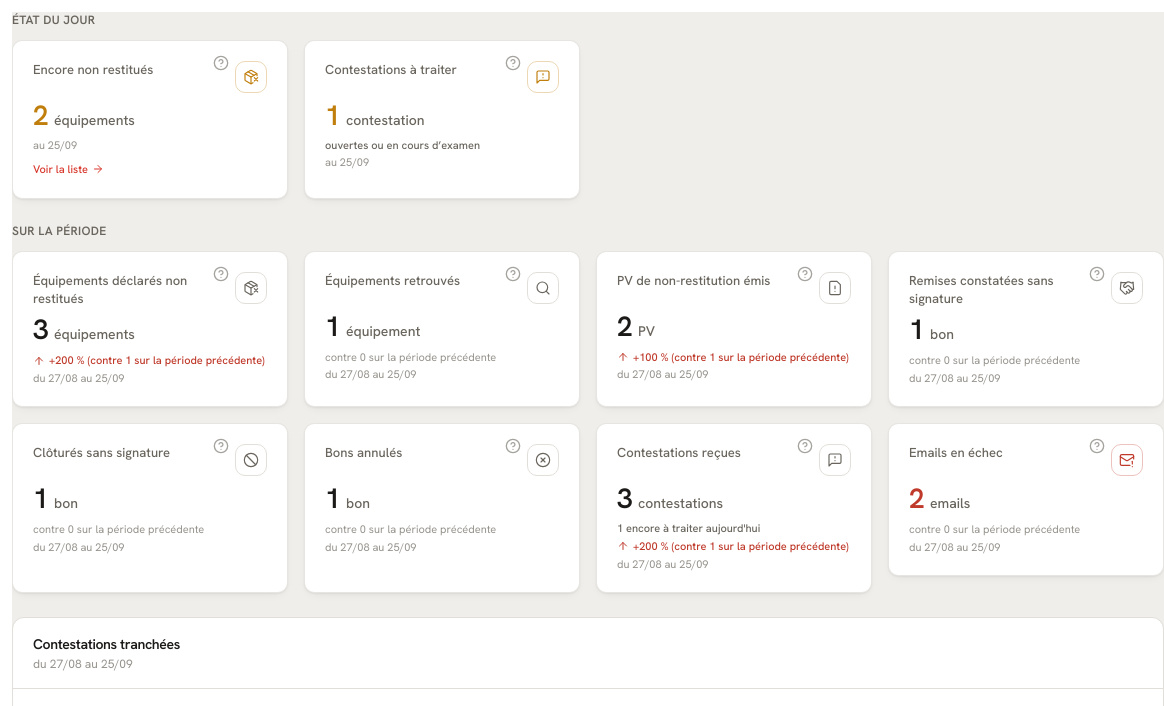
IncidentsTab › tuile = liste › direction : l’inventaire des non-restitués, jamais une liste de bons ; le « ? » dit pourquoi
Expected: the heading "État du jour" is shown, [12,12,95,28]
Click the button named "Pourquoi pas de liste : Bons annulés" at (513, 446), box [491,424,535,468]
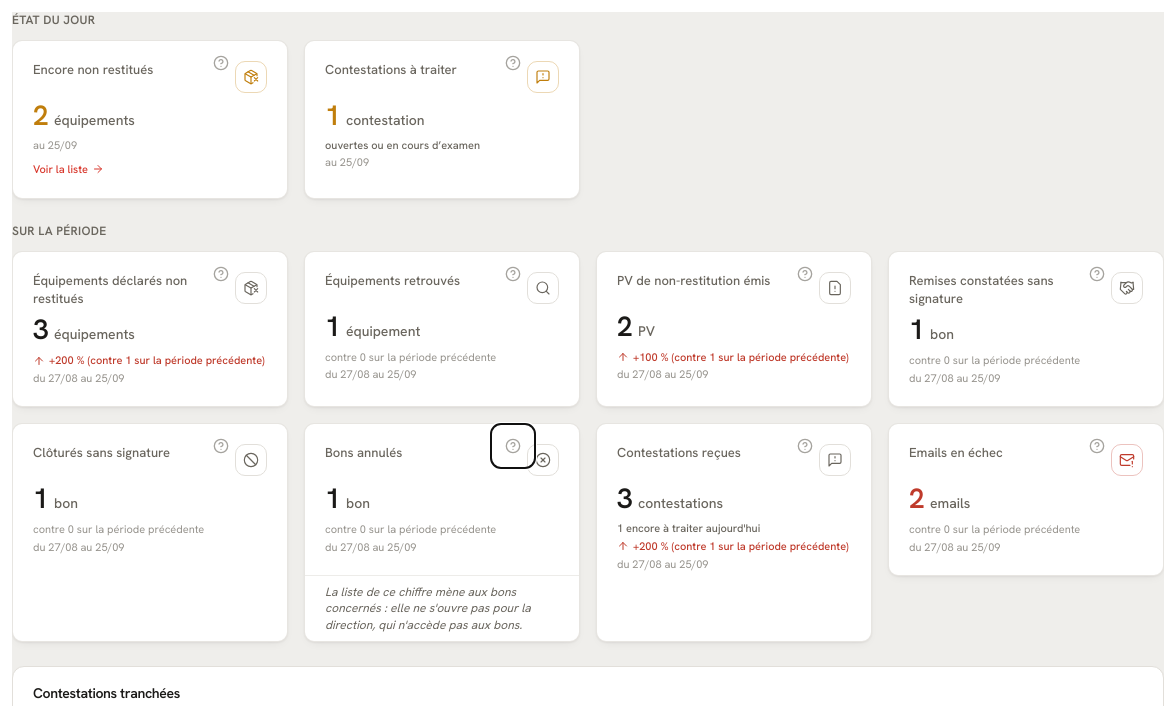
Expected: the text "n'accède pas aux bons" is shown, [325,584,531,633]
